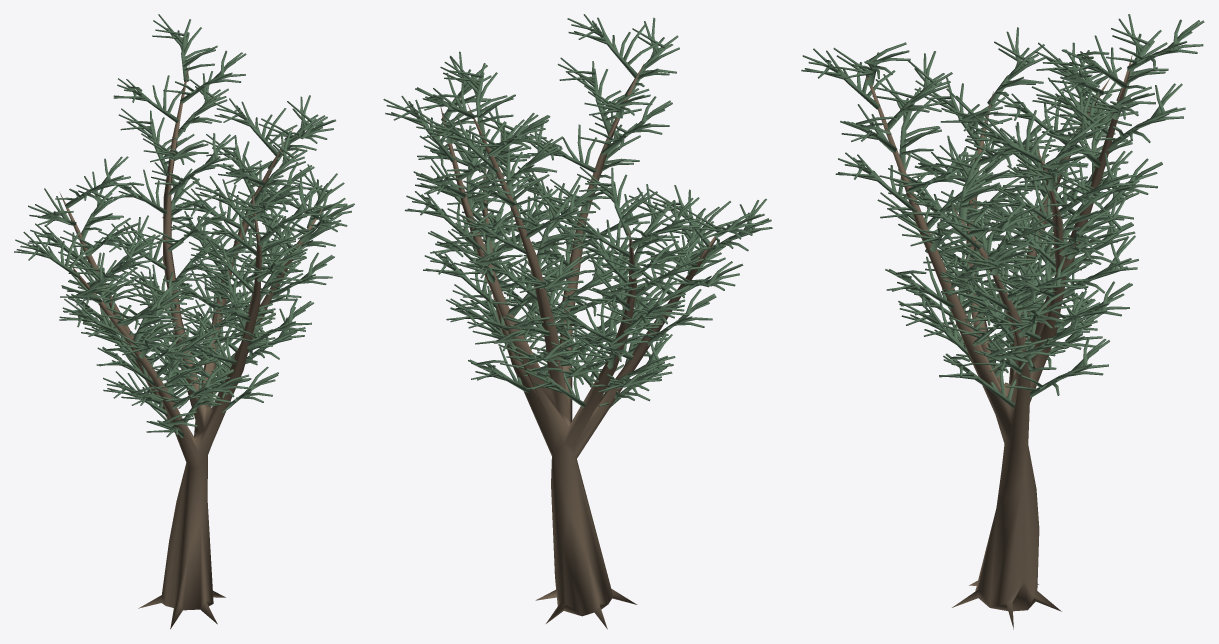
File: Genevrier_1_Niveau1.fbx
3 renders of one model, left to right at view 1: azimuth 30°, elevation 25°; view 2: azimuth 150°, elevation 25°; view 3: azimuth 270°, elevation 25°, orthographic. The views are drawn at different scales.
Parts seen in each view (by area): view 1: Genevrier_1_Niveau1_Jeu; view 2: Genevrier_1_Niveau1_Jeu; view 3: Genevrier_1_Niveau1_Jeu.
Boxes of the visible parts, x1,y1,x2,y2 form: Genevrier_1_Niveau1_Jeu: [14, 14, 354, 629]; Genevrier_1_Niveau1_Jeu: [383, 14, 772, 629]; Genevrier_1_Niveau1_Jeu: [801, 14, 1204, 629].
Size of the model in its own units: 177 by 272 by 161.
